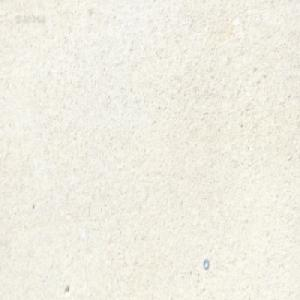Washer: (203, 258, 209, 270)
